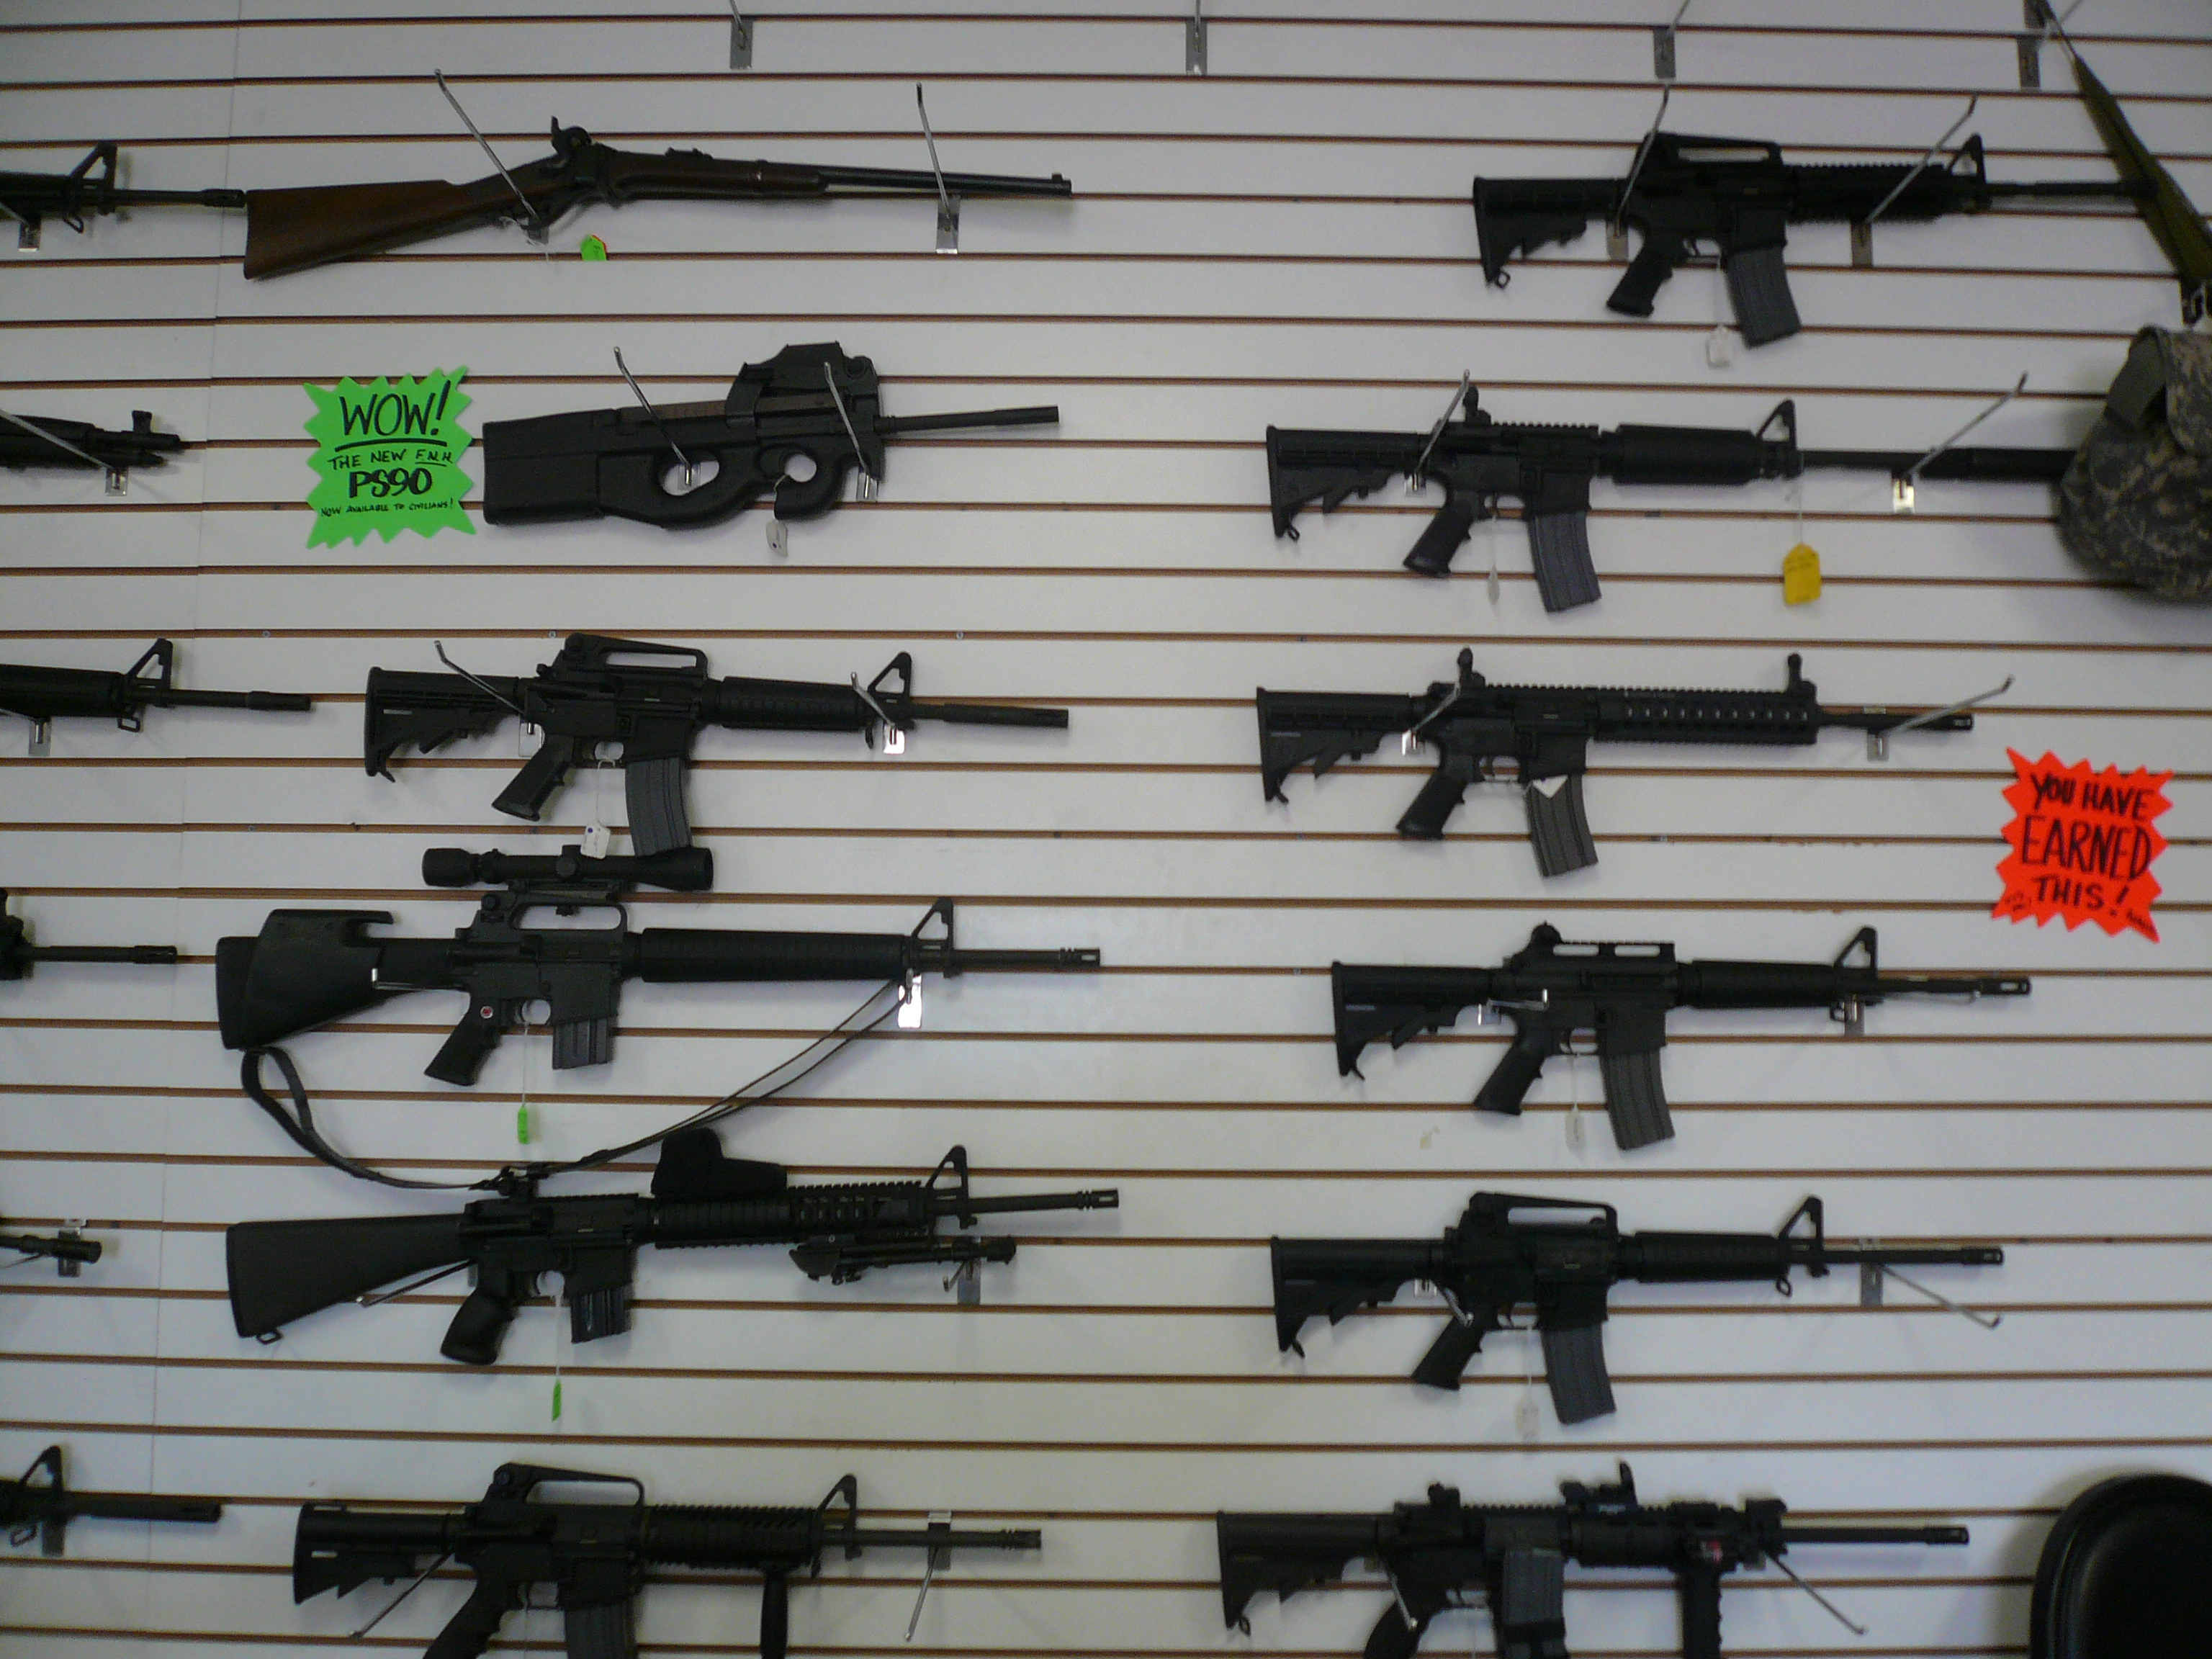rifle: (192, 847, 1111, 1066), (233, 73, 1094, 281), (200, 1166, 1115, 1342), (1217, 650, 2006, 836), (1235, 1188, 2024, 1375), (1266, 922, 2054, 1108), (1209, 1460, 1996, 1647), (1205, 371, 1893, 584), (308, 615, 1127, 793), (441, 326, 1129, 537), (1420, 141, 2177, 303)
